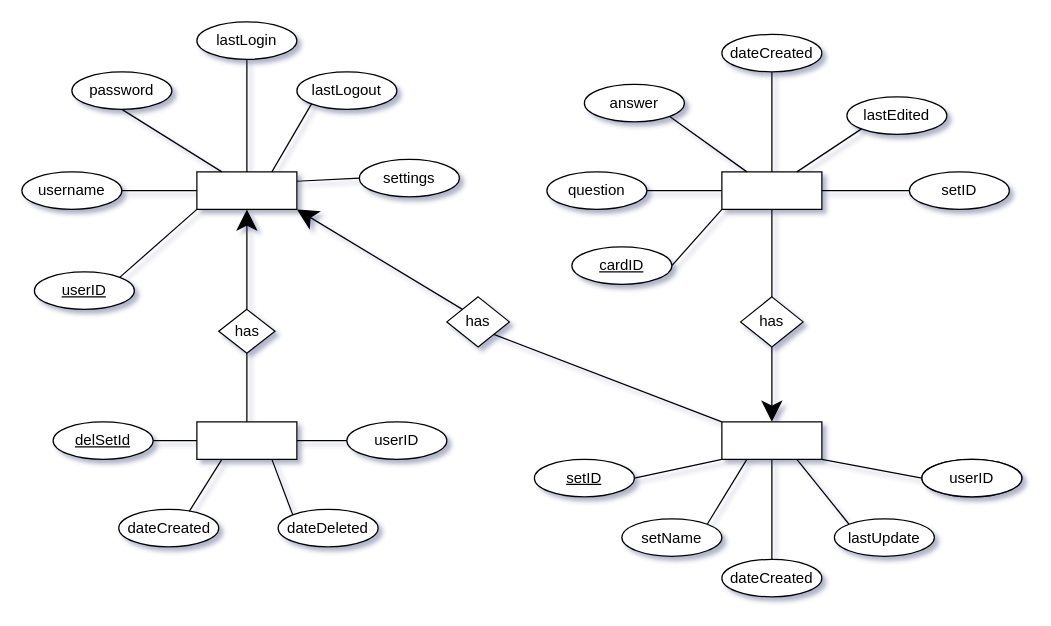
The diagram is 1051 pixels wide and 626 high, and some of its shapes have lost their labels. Each missing label, with the centre of its shape:
"deletedSets" goes at point (246, 440).
"Flashcard" goes at point (771, 190).
"Sets" goes at point (771, 440).
"User" goes at point (246, 190).
